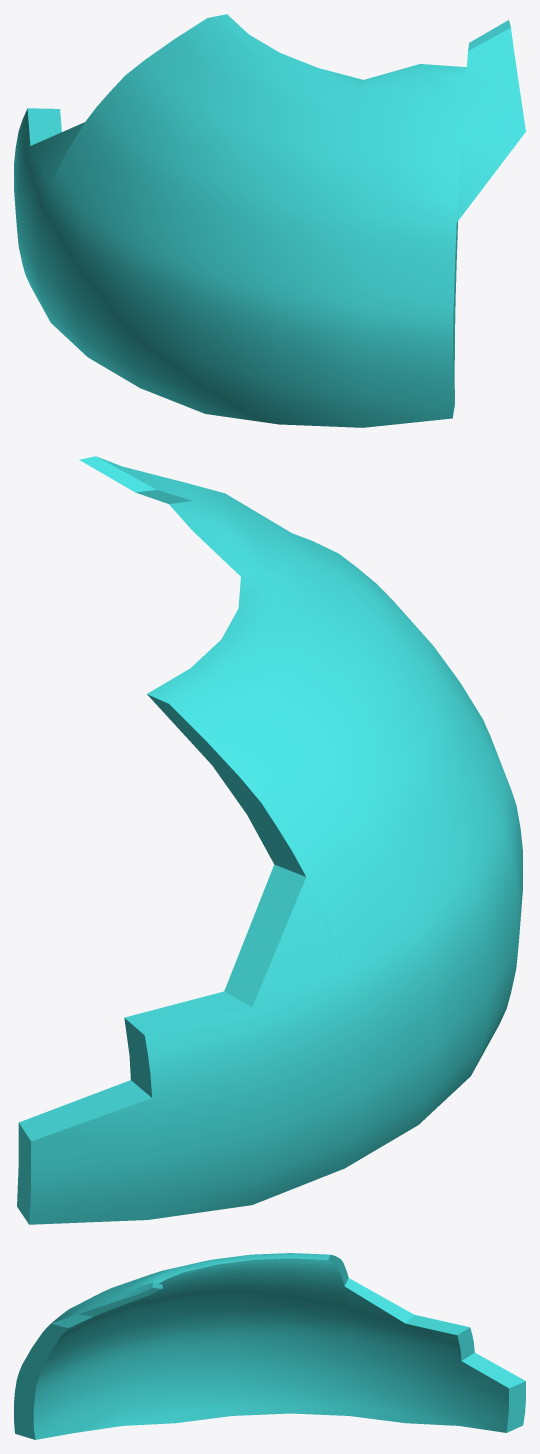
Rendered from VaseBroken3.fbx.
3 renders of one model, top to bottom at view 1: azimuth 30°, elevation 25°; view 2: azimuth 150°, elevation 25°; view 3: azimuth 270°, elevation 25°, orthographic. The views are drawn at different scales.
Visible parts, largest first — view 1: splinterMiddle2; view 2: splinterMiddle2; view 3: splinterMiddle2.
Boxes of the visible parts, <box> form: splinterMiddle2: <box>14,14,525,427</box>; splinterMiddle2: <box>17,456,522,1224</box>; splinterMiddle2: <box>14,1253,525,1439</box>.
Size of the model in its own units: 16.01 by 14.47 by 29.3.
